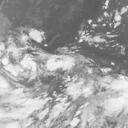cyclone: (23, 49, 97, 112)
